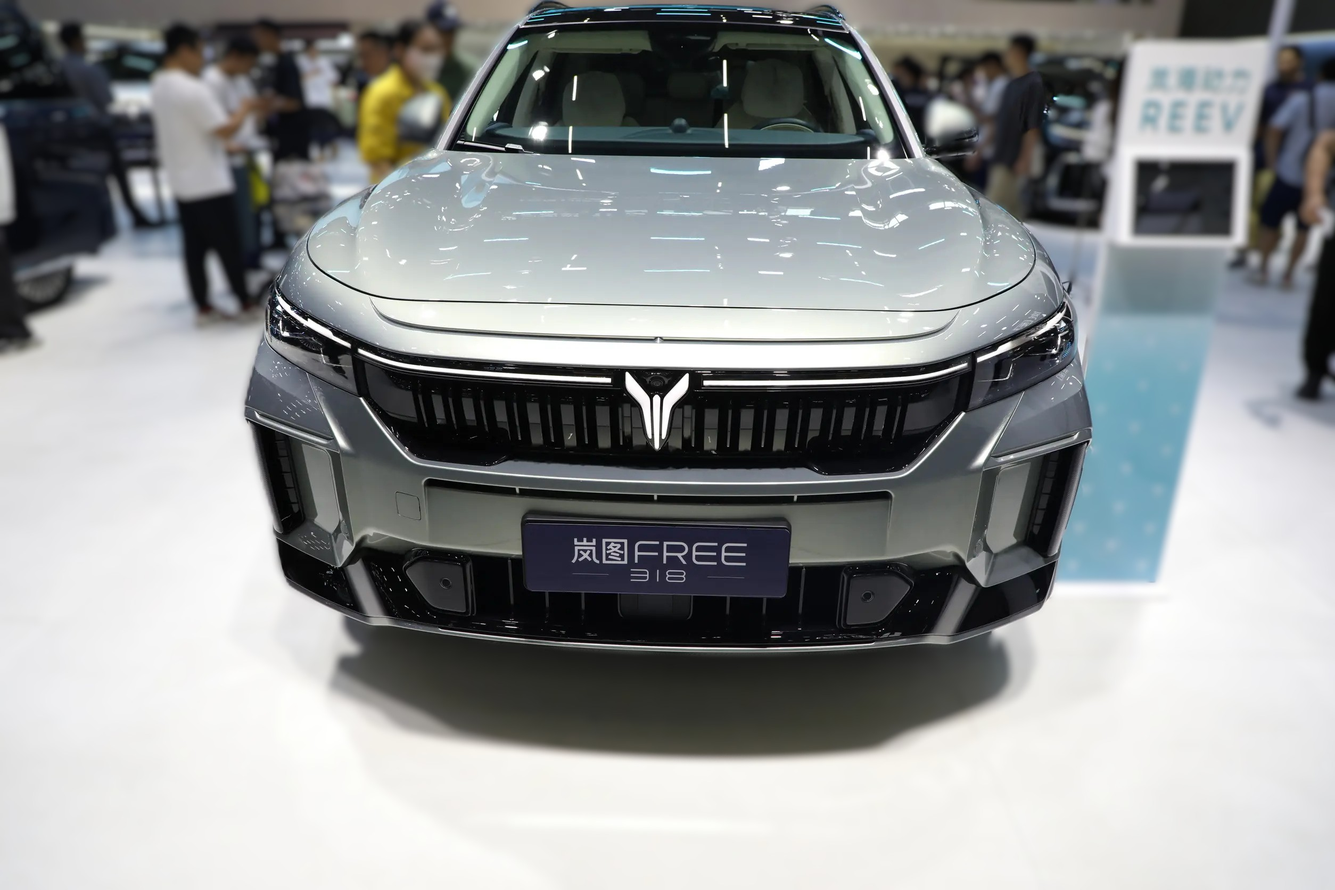VOYAH: (625, 373, 688, 449)
